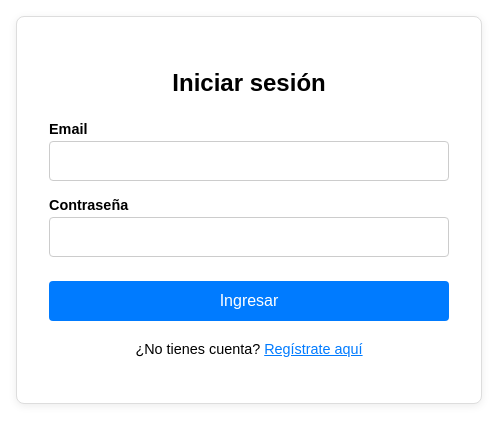
Test: LoginPage › deshabilita el botón y muestra "Ingresando..." mientras se procesa el login
In the field labelled "Email": (249, 161) [49, 141, 449, 181], type "oscar@test.com"
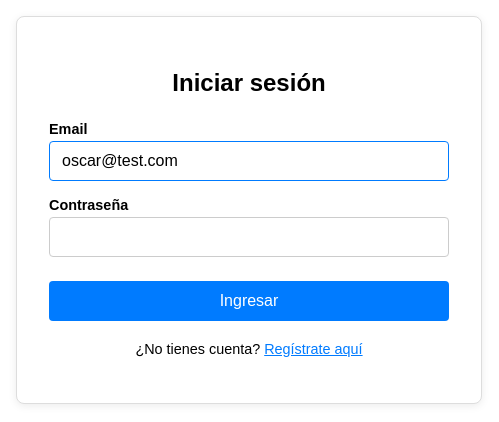
In the password field labelled "Contraseña": (249, 237) [49, 217, 449, 257], type "secret"
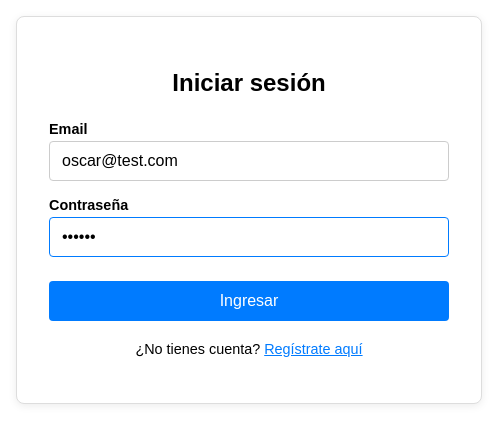
Click the button "Ingresar": click(249, 301) [49, 280, 449, 321]
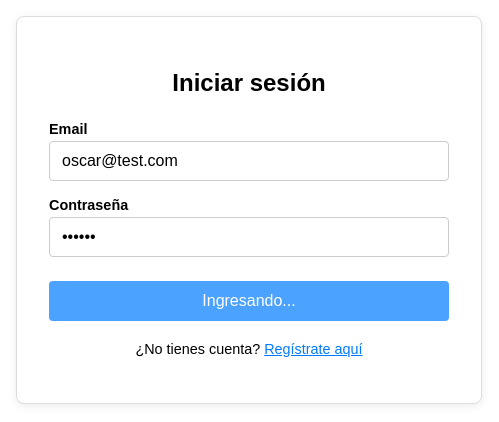
expect the button "Ingresando..." is disabled: met, box [49, 280, 449, 321]
